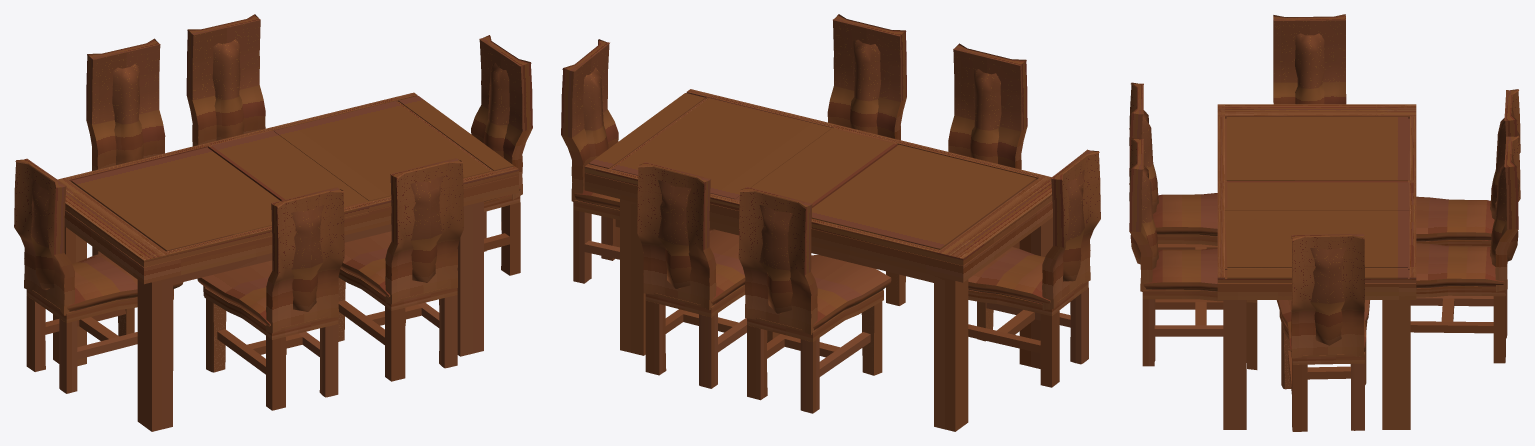
The model's file is Table_witch_chairs.obj.
The picture shows the model from 3 angles, left to right: view 1: azimuth 30°, elevation 25°; view 2: azimuth 150°, elevation 25°; view 3: azimuth 270°, elevation 25°; orthographic projection. The views are drawn at different scales.
Visible parts, largest first — view 1: pCube99_chairs_and_table, chairs_and_table_chair1_pCube91, chairs_and_table_chair_pCube91, chairs_and_table_chair_pCube90, chairs_and_table_chair5_pCube91, chairs_and_table_chair4_pCube91, chairs_and_table_chair3_pCube90, chairs_and_table_chair1_pCube90, chairs_and_table_chair3_pCube91, chairs_and_table_chair2_pCube91, chairs_and_table_chair_pillows_chair3_pCube89, chairs_and_table_pCube96_chair_pillows_chair (+8 smaller); view 2: pCube99_chairs_and_table, chairs_and_table_chair4_pCube90, chairs_and_table_chair5_pCube91, chairs_and_table_chair4_pCube91, chairs_and_table_chair3_pCube90, chairs_and_table_chair_pCube91, chairs_and_table_chair1_pCube91, chairs_and_table_chair5_pCube90, chairs_and_table_chair3_pCube91, chairs_and_table_chair2_pCube91, chairs_and_table_chair_pillows_chair4_pCube89, chairs_and_table_chair_pillows_chair3_pCube89 (+10 smaller); view 3: pCube99_chairs_and_table, chairs_and_table_chair2_pCube91, chairs_and_table_chair3_pCube91, chairs_and_table_chair1_pCube90, chairs_and_table_chair2_pCube90, chairs_and_table_chair5_pCube90, chairs_and_table_chair_pillows_chair5_pCube89, chairs_and_table_chair_pillows_chair4_pCube89, chairs_and_table_pCube96_chair_pillows_chair2, chairs_and_table_chair_pillows_chair1_pCube89, chairs_and_table_chair_pillows_chair_pCube89, chairs_and_table_chair5_pCube91 (+11 smaller).
Part boxes in pixels (x1,y1,x2,y2): pCube99_chairs_and_table: [53, 92, 518, 431]; chairs_and_table_chair1_pCube91: [385, 158, 463, 304]; chairs_and_table_chair_pCube91: [266, 187, 344, 333]; chairs_and_table_chair_pCube90: [204, 287, 338, 410]; chairs_and_table_chair5_pCube91: [186, 14, 265, 146]; chairs_and_table_chair4_pCube91: [86, 38, 165, 170]; chairs_and_table_chair3_pCube90: [26, 289, 173, 393]; chairs_and_table_chair1_pCube90: [338, 268, 457, 381]; chairs_and_table_chair3_pCube91: [14, 158, 74, 315]; chairs_and_table_chair2_pCube91: [471, 35, 532, 199]; chairs_and_table_chair_pillows_chair3_pCube89: [67, 253, 183, 311]; chairs_and_table_pCube96_chair_pillows_chair: [291, 205, 324, 311]; pCube99_chairs_and_table: [584, 89, 1052, 431]; chairs_and_table_chair4_pCube90: [747, 290, 883, 413]; chairs_and_table_chair5_pCube91: [637, 162, 716, 309]; chairs_and_table_chair4_pCube91: [738, 186, 817, 334]; chairs_and_table_chair3_pCube90: [968, 281, 1088, 387]; chairs_and_table_chair_pCube91: [948, 43, 1027, 169]; chairs_and_table_chair1_pCube91: [827, 14, 906, 140]; chairs_and_table_chair5_pCube90: [645, 285, 779, 388]; chairs_and_table_chair3_pCube91: [1042, 149, 1100, 309]; chairs_and_table_chair2_pCube91: [561, 39, 618, 201]; chairs_and_table_chair_pillows_chair4_pCube89: [811, 255, 891, 329]; chairs_and_table_chair_pillows_chair3_pCube89: [968, 247, 1050, 303]; pCube99_chairs_and_table: [1217, 104, 1416, 429]; chairs_and_table_chair2_pCube91: [1291, 233, 1364, 358]; chairs_and_table_chair3_pCube91: [1273, 14, 1346, 104]; chairs_and_table_chair1_pCube90: [1142, 289, 1257, 369]; chairs_and_table_chair2_pCube90: [1279, 311, 1367, 431]; chairs_and_table_chair5_pCube90: [1410, 269, 1507, 363]; chairs_and_table_chair_pillows_chair5_pCube89: [1416, 243, 1504, 288]; chairs_and_table_chair_pillows_chair4_pCube89: [1416, 196, 1494, 241]; chairs_and_table_pCube96_chair_pillows_chair2: [1310, 247, 1346, 345]; chairs_and_table_chair_pillows_chair1_pCube89: [1143, 248, 1217, 291]; chairs_and_table_chair_pillows_chair_pCube89: [1153, 193, 1217, 236]; chairs_and_table_chair5_pCube91: [1495, 135, 1520, 291].
Bounding box in the file's own units: 13.11 × 6.18 × 9.55.
Materials: 1 (1 with a texture image).
